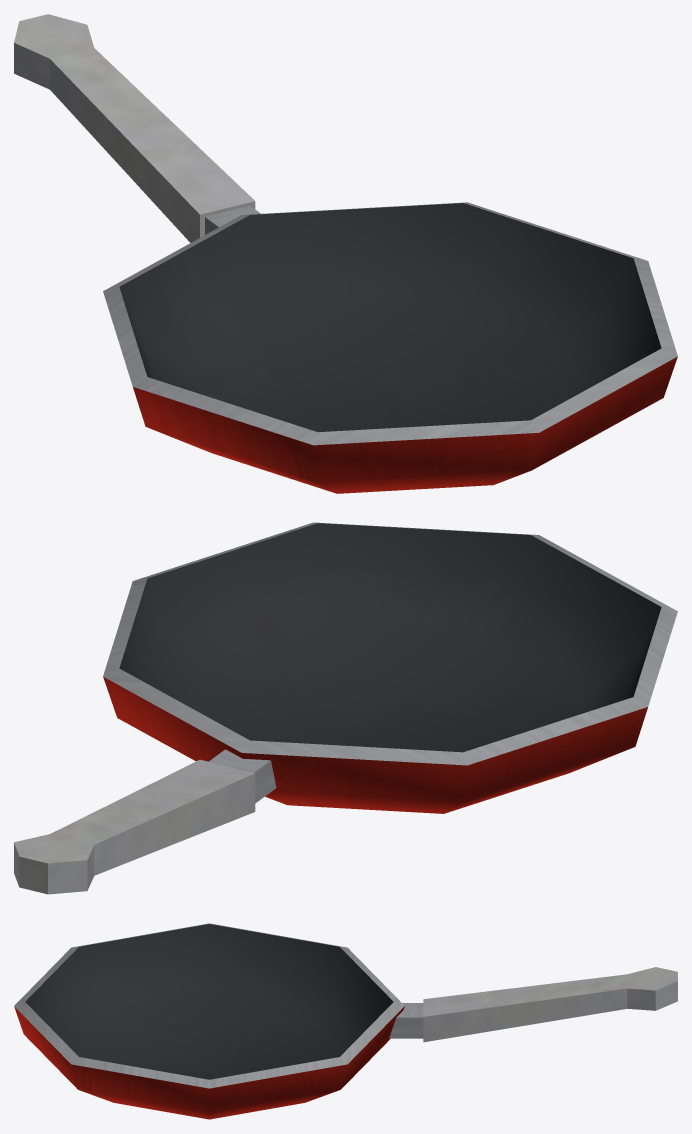
Rendered from pan.glb.
3 views of the same model, one above another, from view 1: azimuth 30°, elevation 25°; view 2: azimuth 150°, elevation 25°; view 3: azimuth 270°, elevation 25° (orthographic). The views are drawn at different scales.
Visible parts, largest first — view 1: Sarten_01; view 2: Sarten_01; view 3: Sarten_01.
Boxes of the visible parts, bbox=[...] form: Sarten_01: bbox=[14, 14, 677, 493]; Sarten_01: bbox=[14, 522, 677, 894]; Sarten_01: bbox=[14, 923, 677, 1119].
Size of the model in its own units: 0.3758 by 0.0912 by 0.6384.
Materials: 4 (4 with a texture image).
